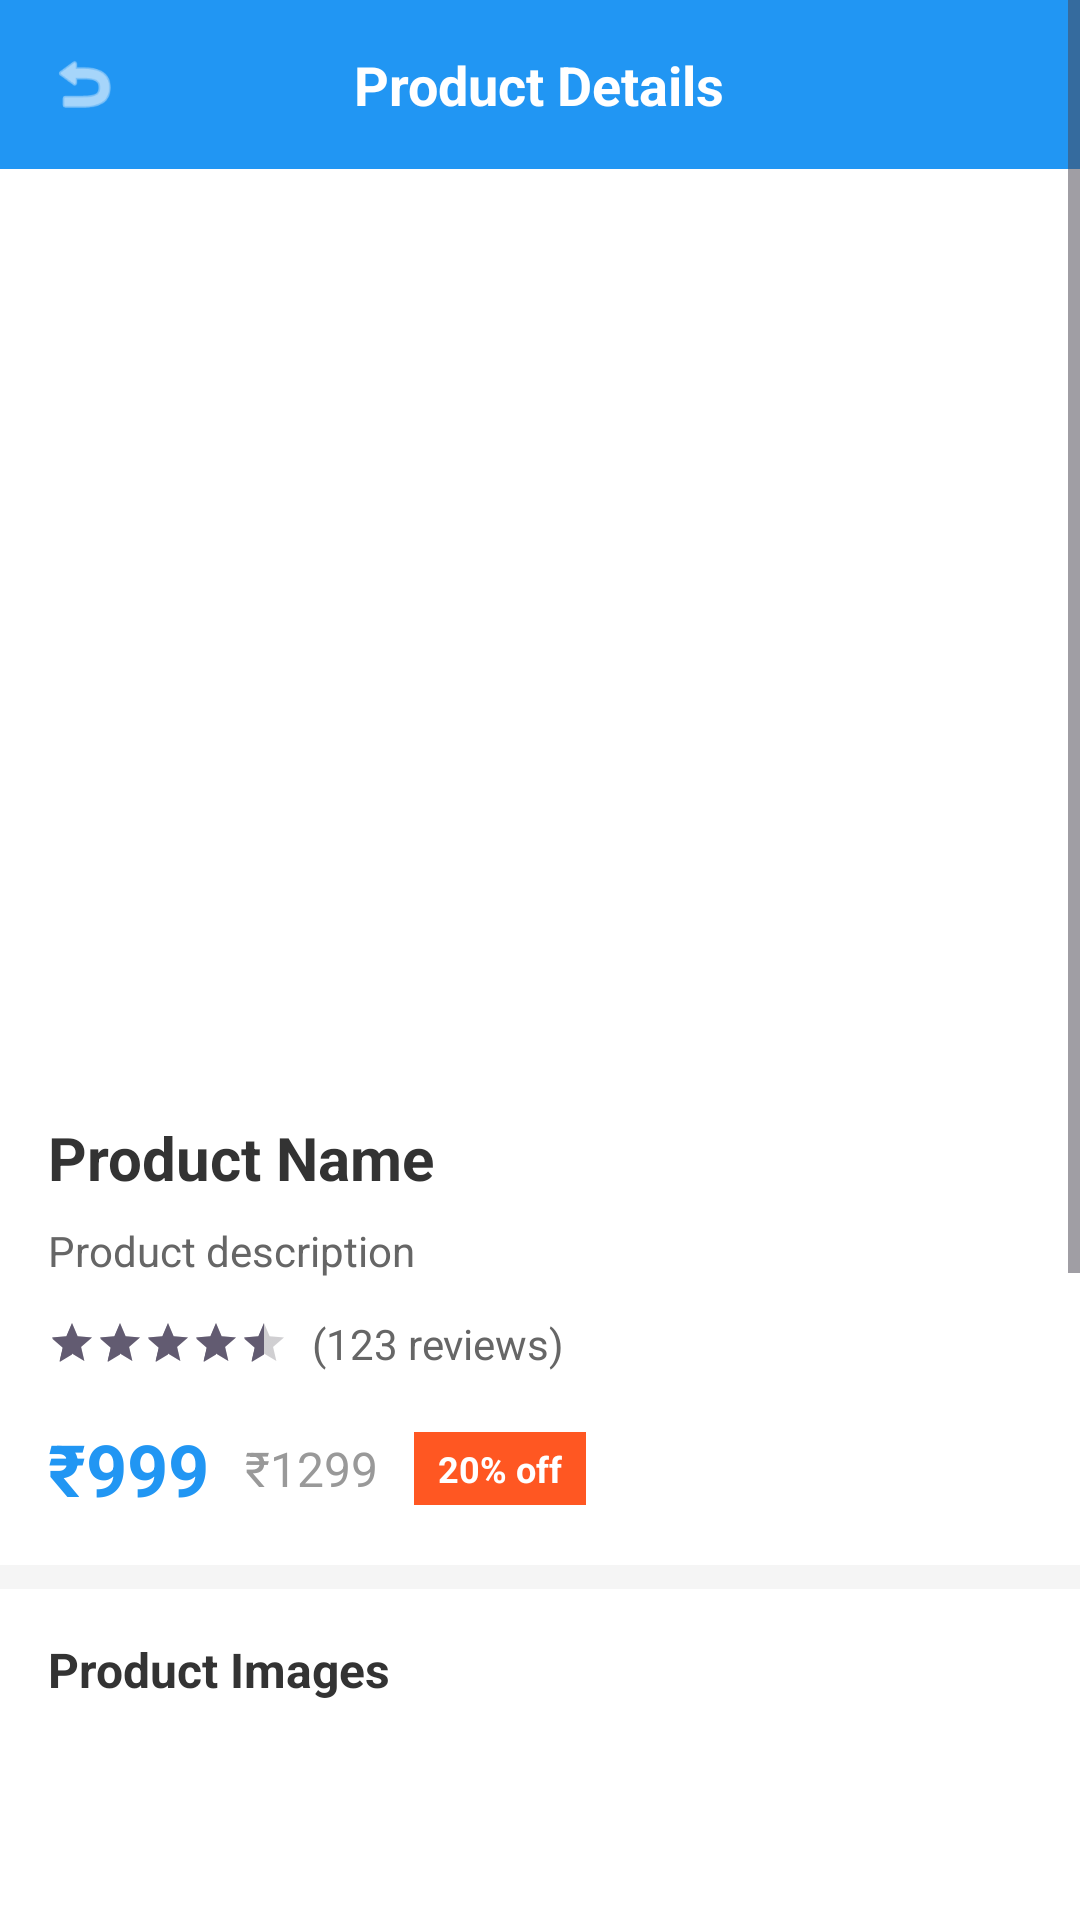

Icon bounding boxes for this 1080x1920 phone screenshot, format (x1,y1,x2,y2):
revert: (59,61,111,108)
